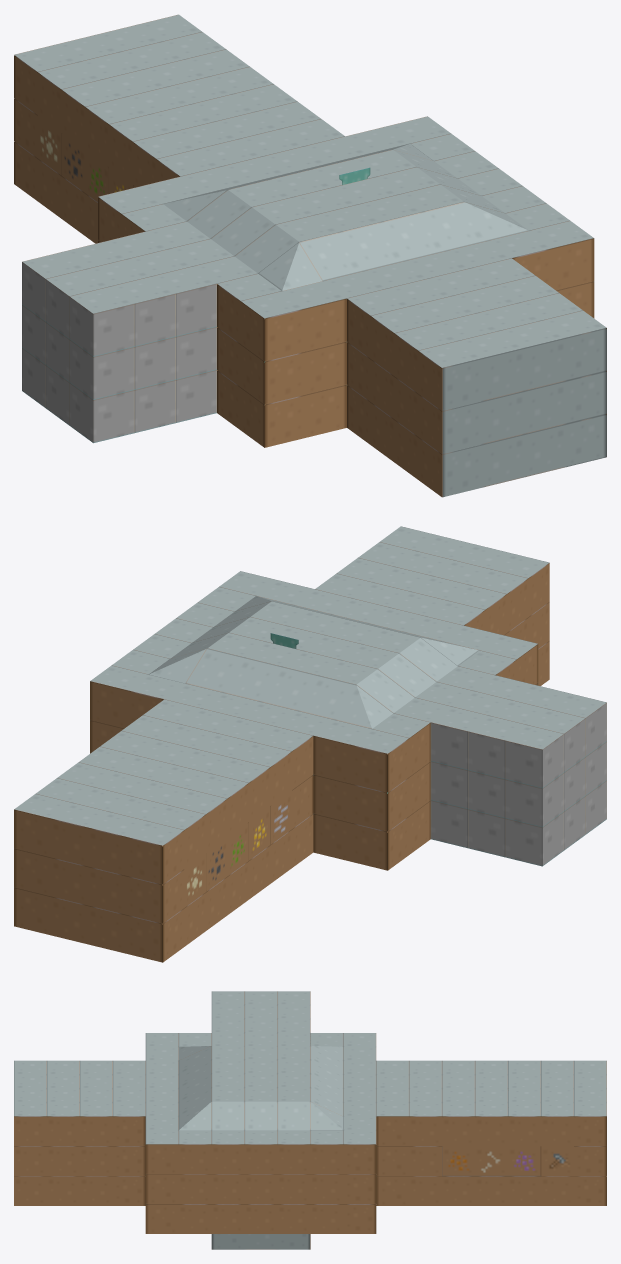
Rendered from dungeon.obj.
The picture shows the model from 3 angles, top to bottom: view 1: azimuth 30°, elevation 25°; view 2: azimuth 150°, elevation 25°; view 3: azimuth 270°, elevation 25°; orthographic projection. The views are drawn at different scales.
Visible parts, largest first — view 1: root; view 2: root; view 3: root.
Boxes of the visible parts, bbox=[...] form: root: bbox=[14, 14, 606, 497]; root: bbox=[14, 526, 606, 962]; root: bbox=[14, 991, 606, 1249].
Bounding box in the file's own units: 176 × 76 × 288.
